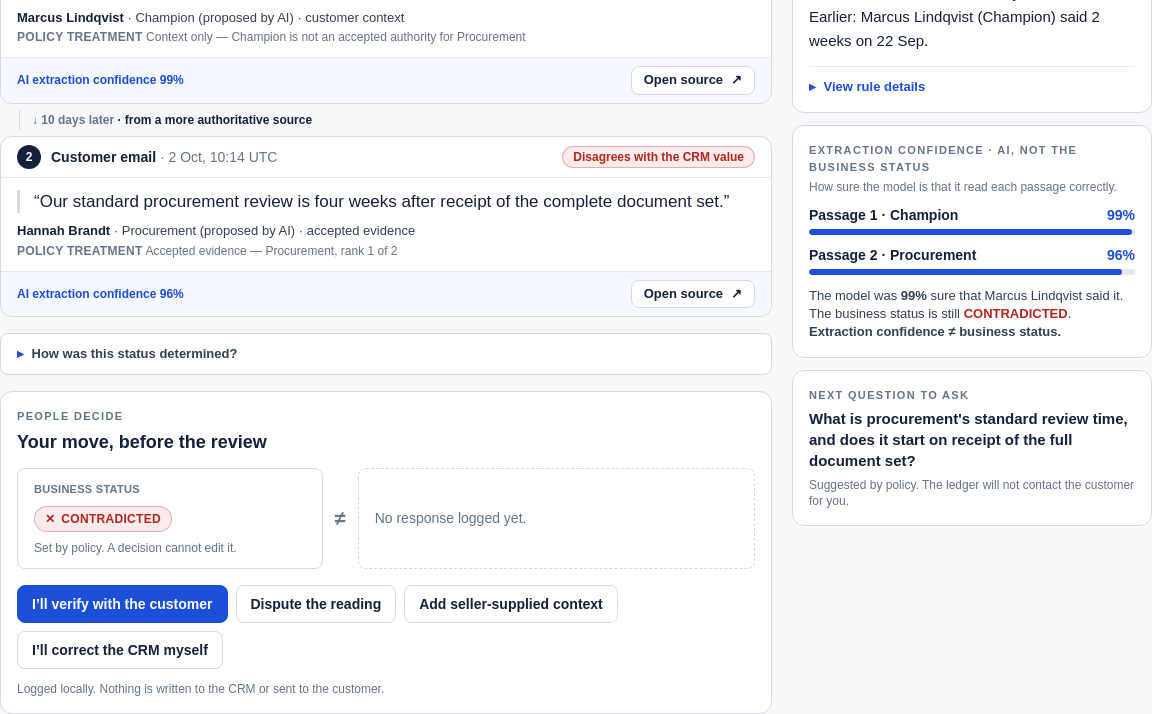
Test: Screen 5: rep-first view › the rep sees the flag first and can verify, dispute, attach and plan a CRM fix, all locally
(page scrolled)
Expected: the button "I’ll verify with the customer" is shown, x1=17 y1=585 x2=228 y2=623
Expected: the button "Add seller-supplied context" is shown, x1=404 y1=585 x2=618 y2=623
Click the button "Dispute the reading".
click(316, 604)  # box x1=236 y1=585 x2=396 y2=623
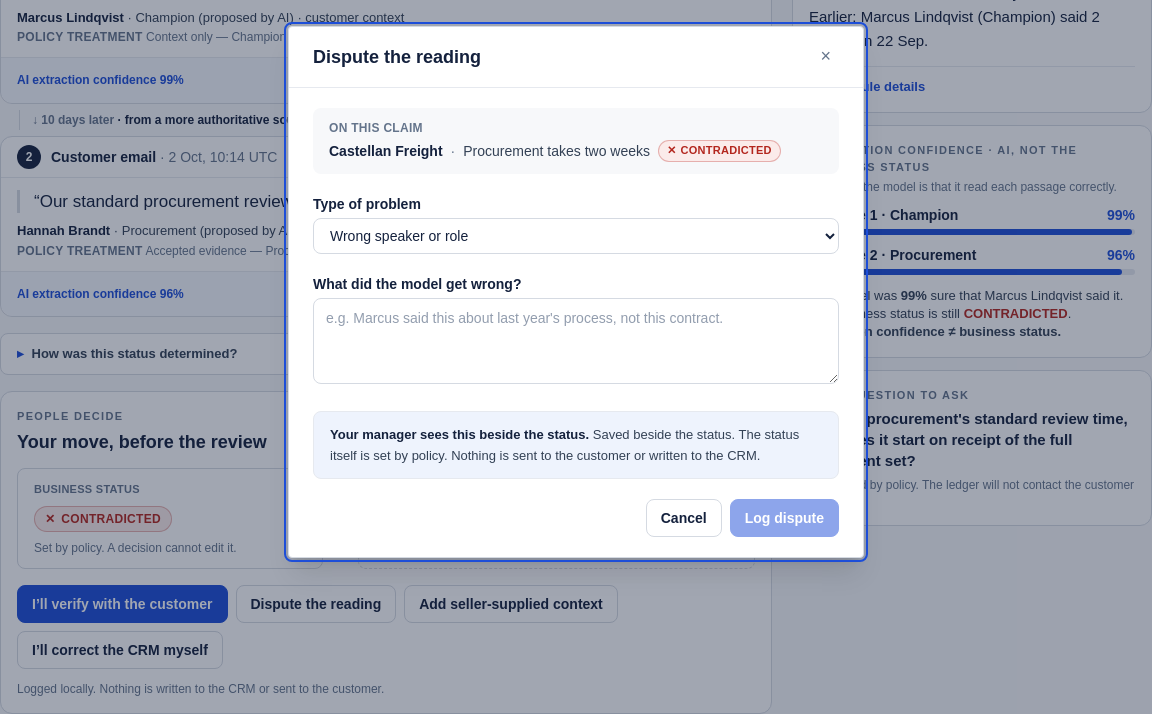
Type "Marcus was describing last year's process." into the text box labelled "What did the model get wrong?".
click(576, 341); type("Marcus was describing last year's process.")  # box x1=313 y1=298 x2=839 y2=384
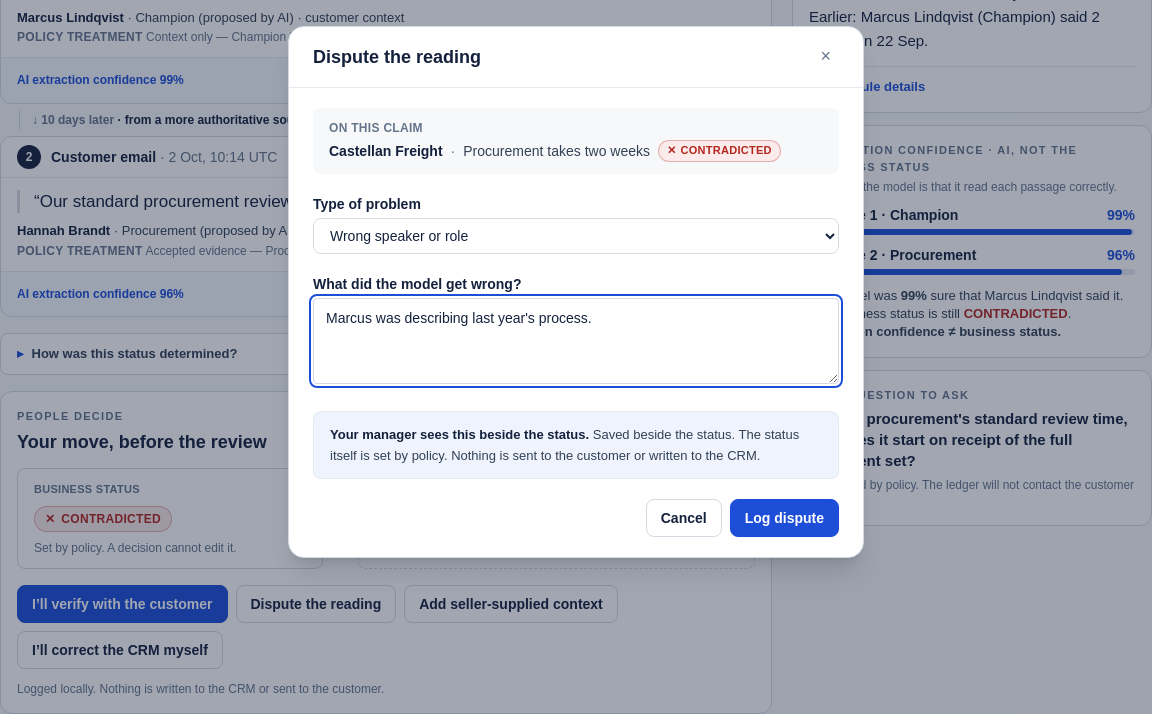
Click the button "Log dispute".
click(784, 518)  # box x1=730 y1=499 x2=839 y2=537
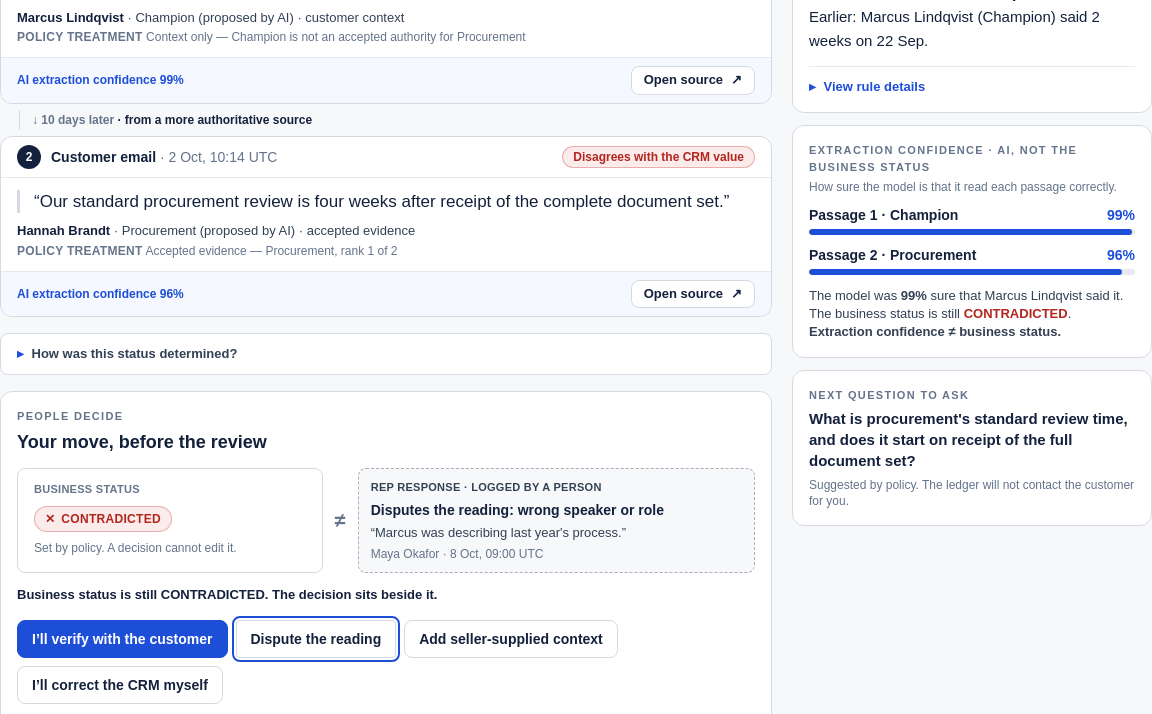
Expected: the element with test id "decision-note" shows "Disputes the reading", x1=371 y1=502 x2=664 y2=518
Expected: the element with test id "decision-note" shows "Maya Okafor", x1=371 y1=546 x2=439 y2=560
Expected: the text with test id "status-unchanged" shows "Business status is still CONTRADICTED", x1=17 y1=586 x2=437 y2=602
